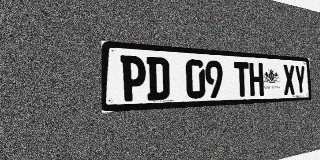0: (185, 59, 205, 99)
9: (205, 60, 223, 98)
D: (146, 57, 170, 101)
H: (249, 62, 264, 96)
P: (120, 55, 146, 102)
T: (234, 62, 250, 97)
X: (283, 64, 295, 95)
Y: (294, 65, 306, 95)
